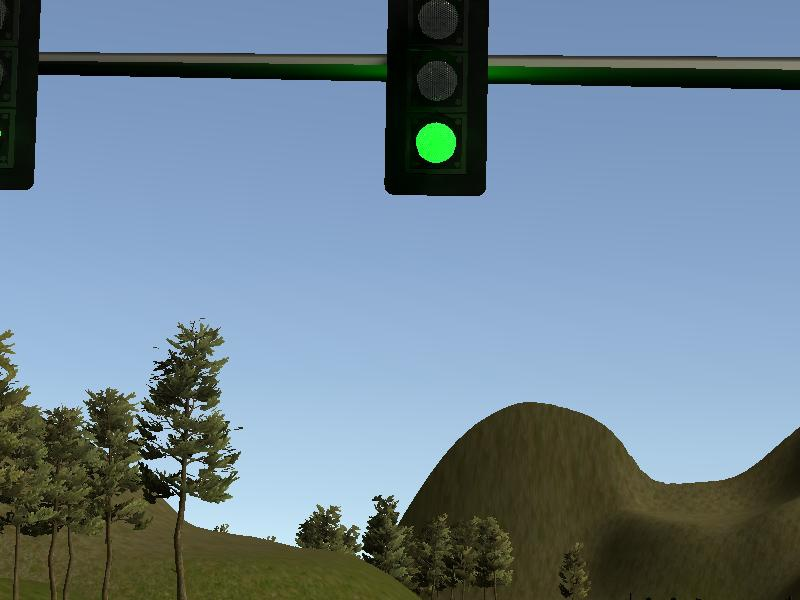Green: (383, 1, 492, 200)
